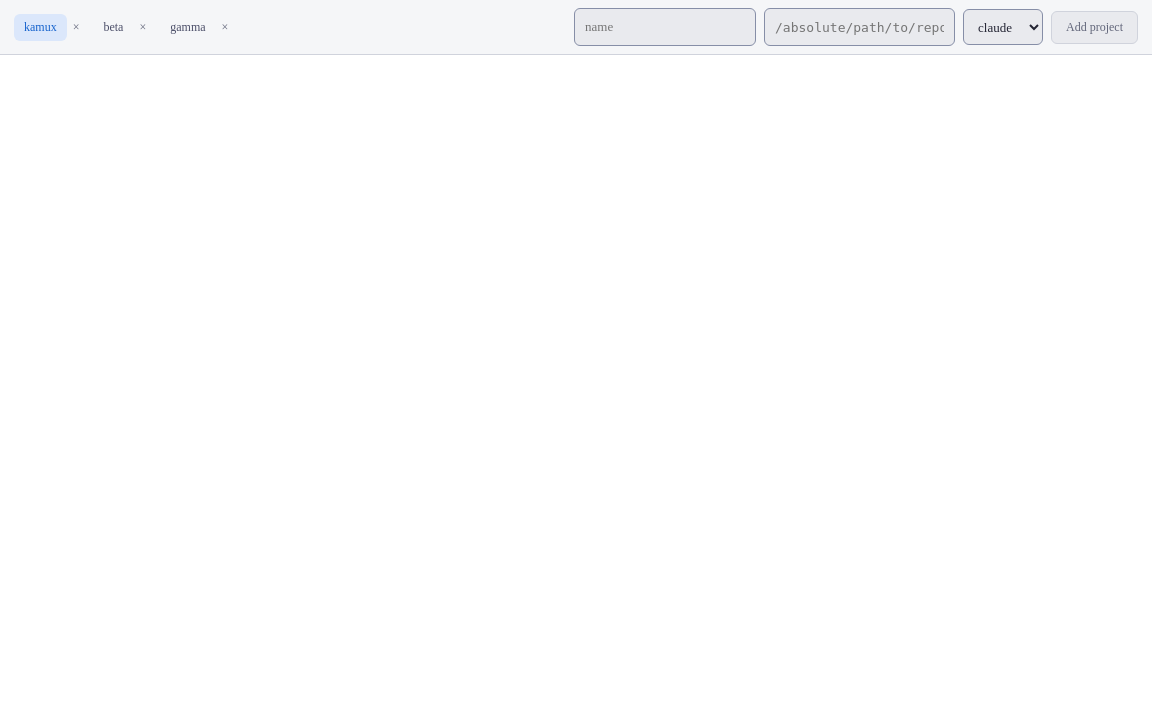
ProjectBar の削除導線 › 未訪問プロジェクトでも消えるセッション数と稼働中の件数を出す（契約 §130.4）
The width and height of the screenshot is (1152, 720).
Click the button named "beta を削除" at (143, 27), box [134, 15, 152, 39]
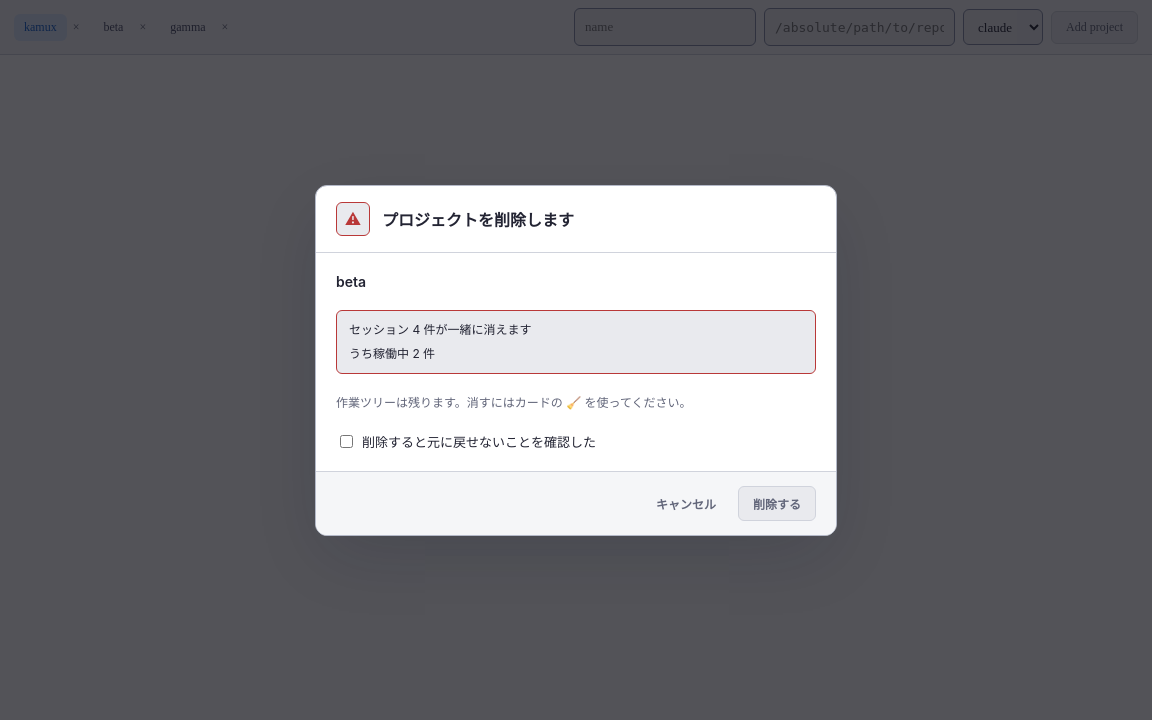
Expected: the text "セッション 4 件が一緒に消えます" is shown, [349, 322, 532, 336]
Expected: the text "うち稼働中 2 件" is shown, [349, 346, 435, 360]
